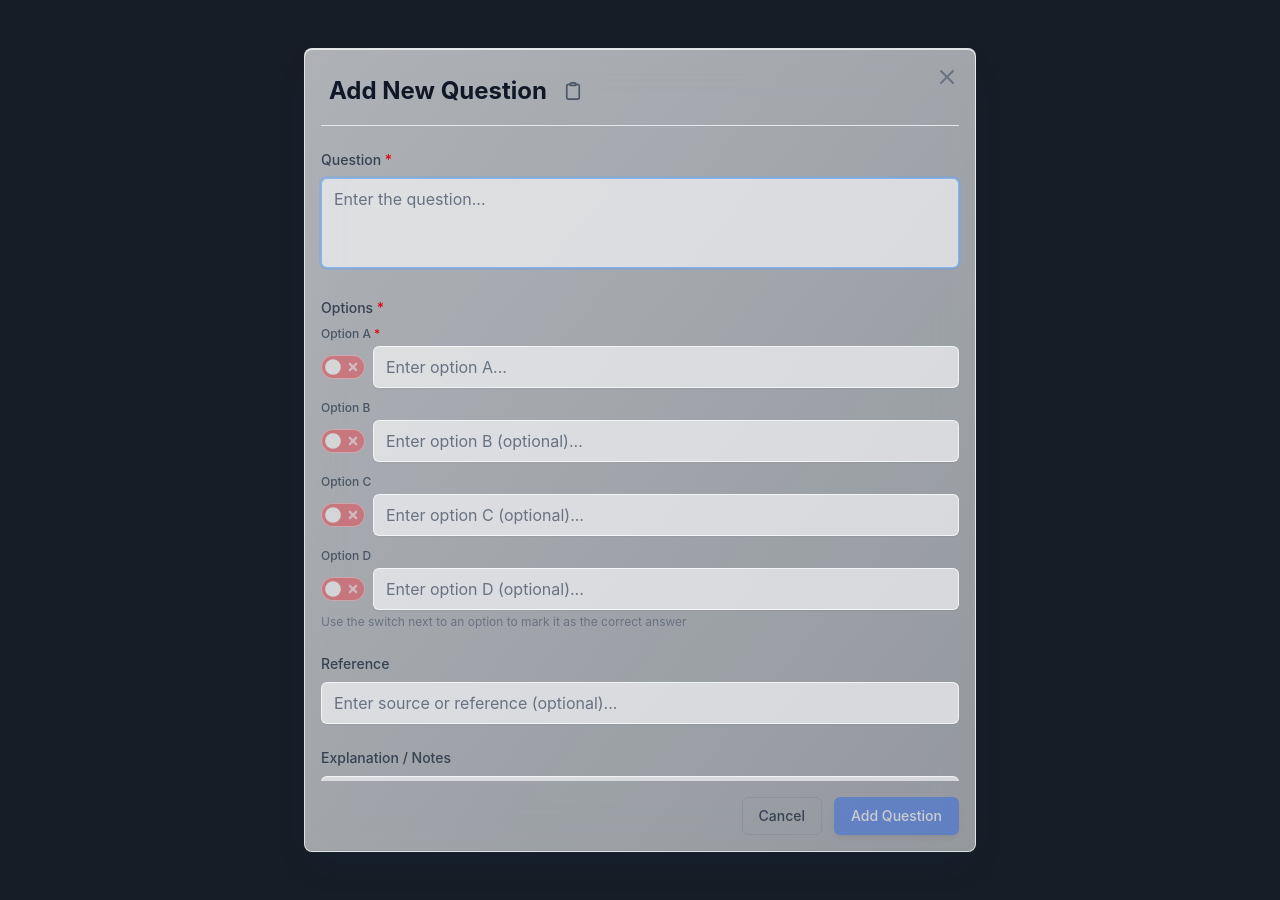
Test case: QuestionFormModal › shows an error message when submission fails
Type "New question?" into the text box labelled "Question *". click: (640,223)
box: [321,178,959,268]
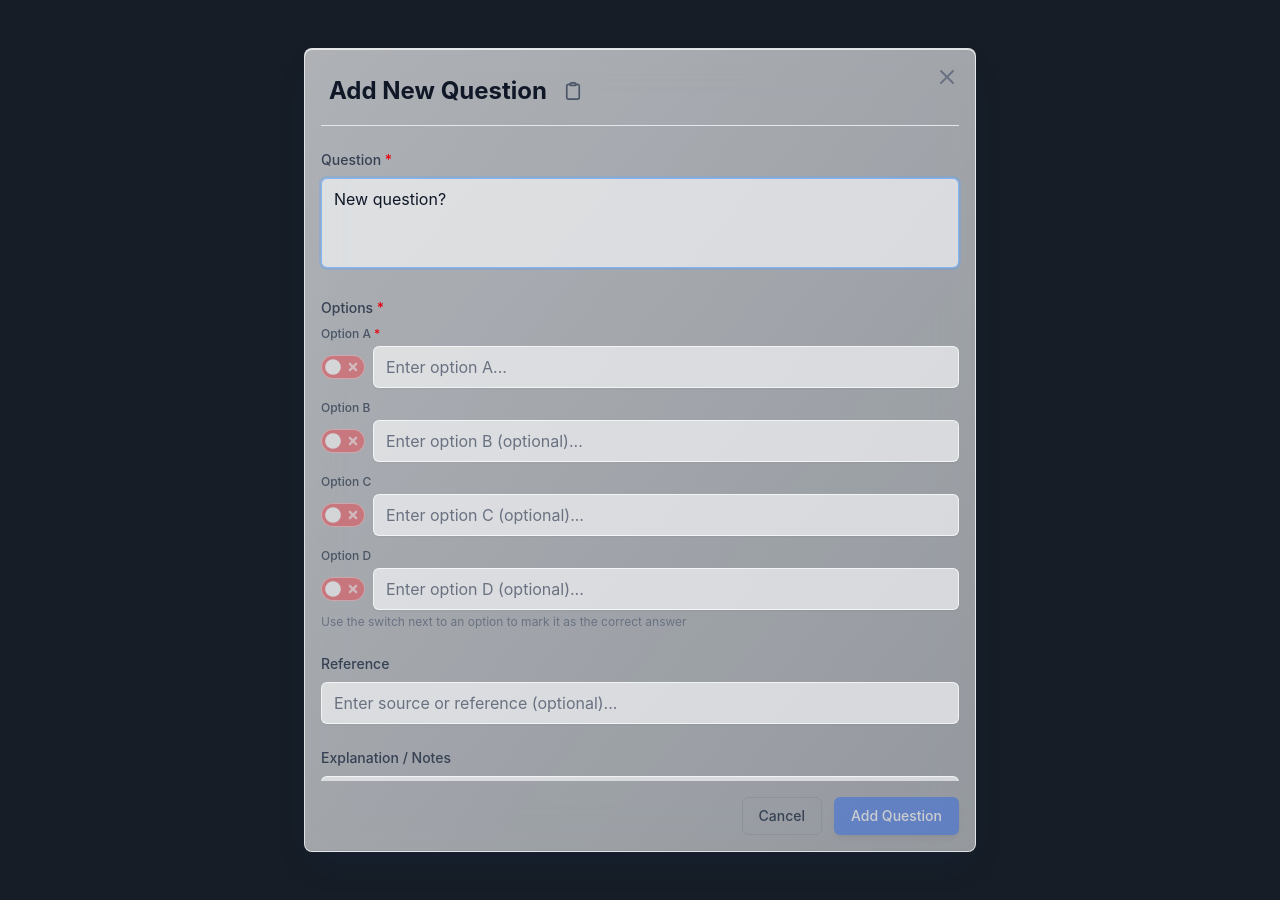
Type "4" into the field labelled "Option A *". click: (666,367)
box: [373,346,959,388]
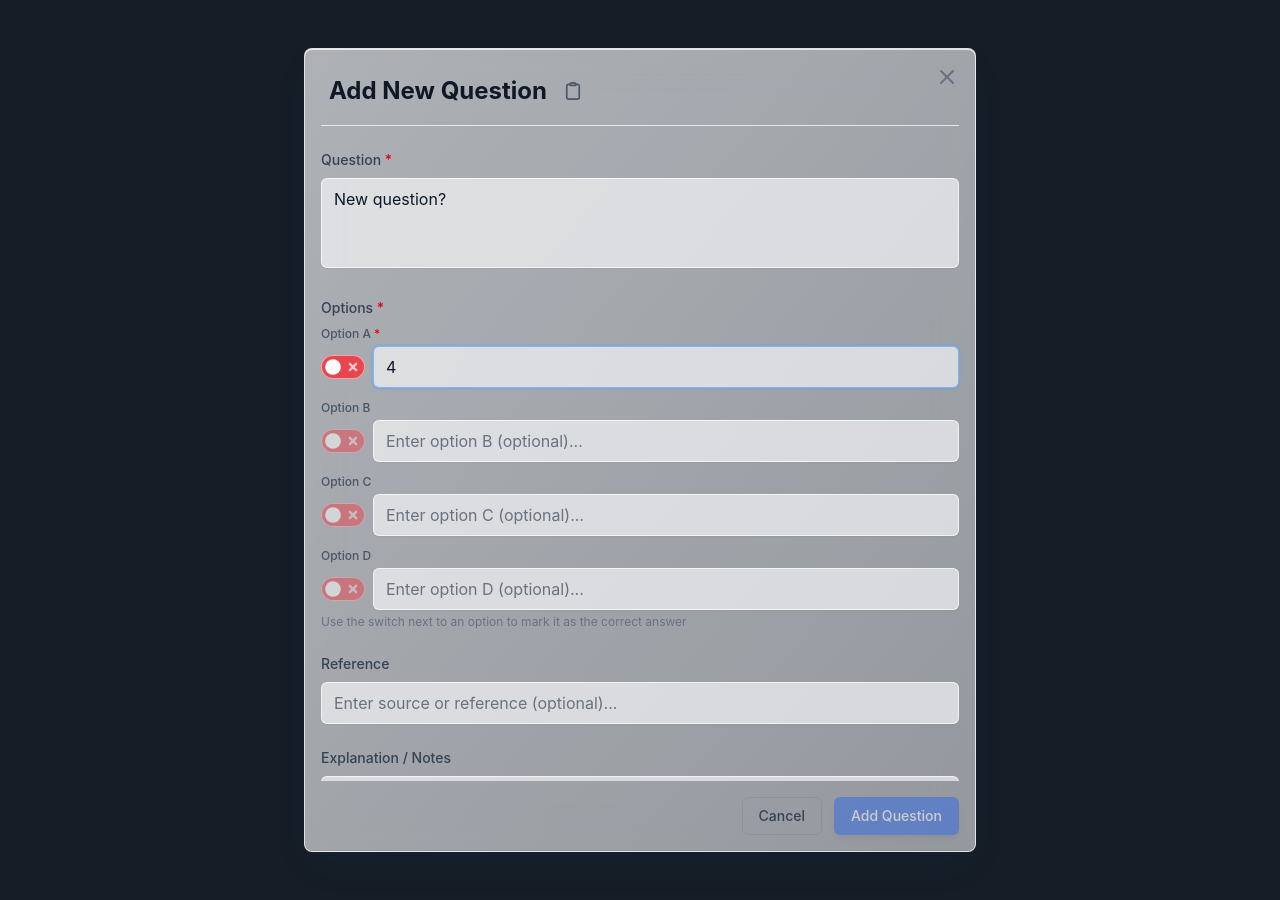
Click the radio button named "Mark option A as the correct answer". click: (343,367)
box: [321,355,365,379]
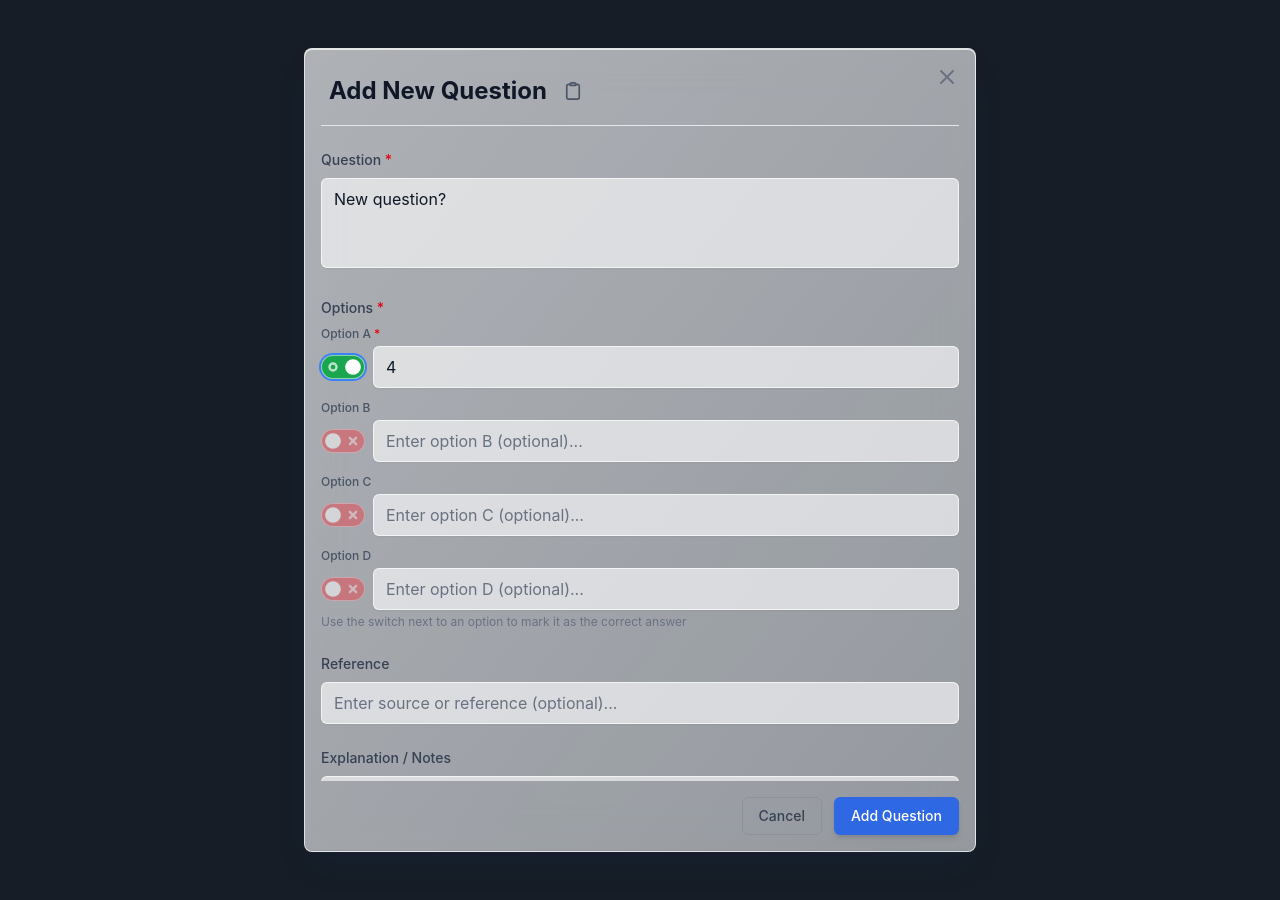
Click the button "Add Question". click: (896,816)
box: [834,797,959,835]
(page scrolled)
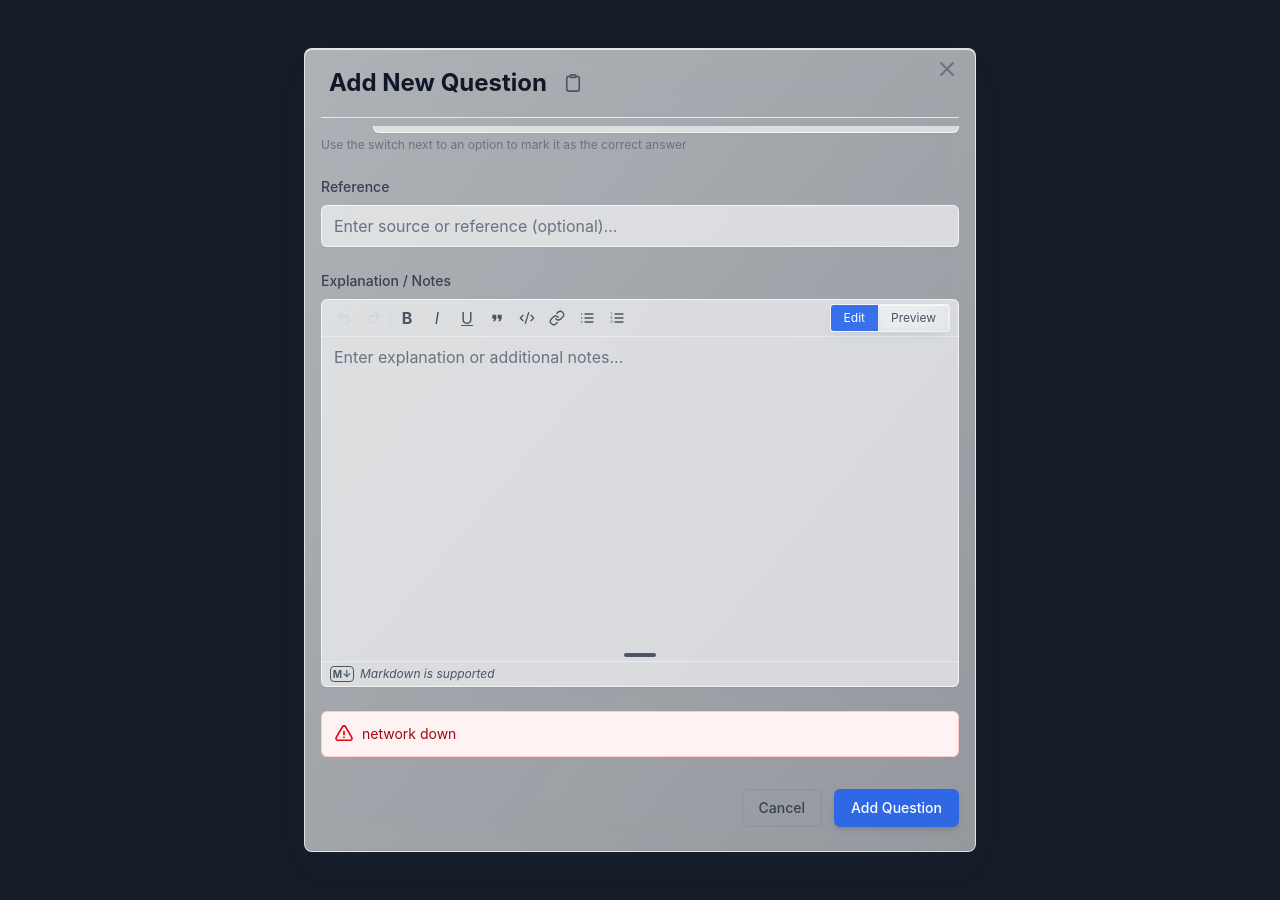
expect the text "network down" is shown: met, box [362,724,456,744]
